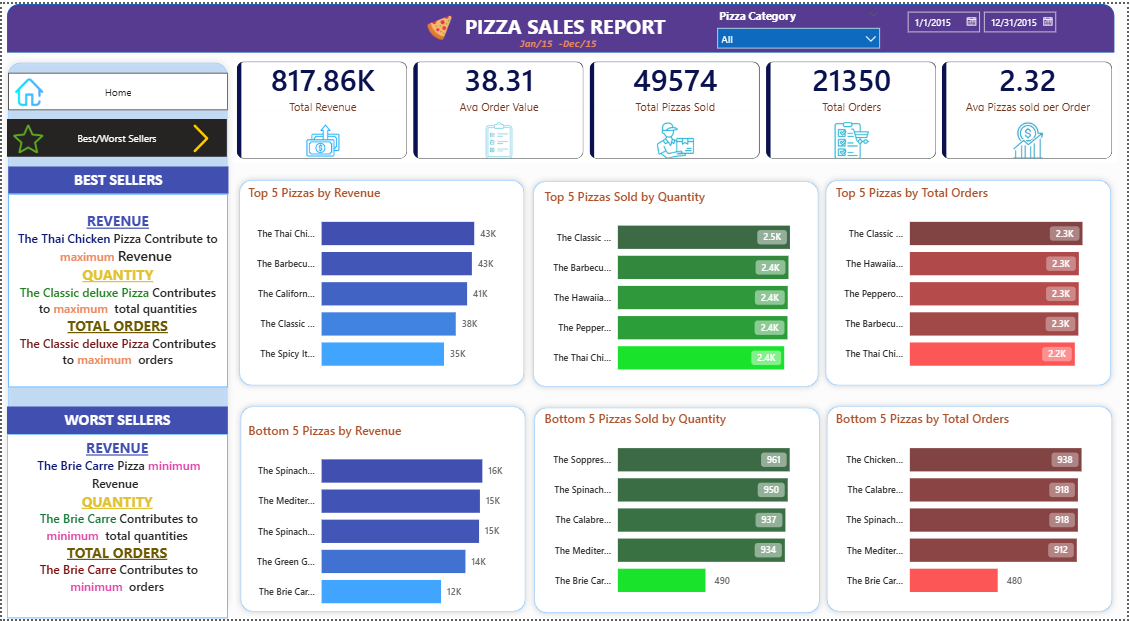

The dashboard page shown, as its layout file describes it:
{"tool":"powerbi","page":{"name":"Best/Worst Sellers","canvas":[1500,820],"ordinal":1},"visuals":[{"type":"cardVisual","fields":{"Data":["pizza_sales.Total Revenue","pizza_sales.Avg Order Value","pizza_sales.Total Pizzas Sold","pizza_sales.Total Orders","pizza_sales.Avg Pizzas sold per Order"]},"box":[309.2,71.4,1178.9,140.1],"z":0},{"type":"shape","box":[6.7,0,1476.7,65],"z":1000},{"type":"textbox","box":[602.5,6.2,295,51.2],"z":2000},{"type":"textbox","box":[685,37.5,142.5,27.5],"z":3000},{"type":"image","box":[562.5,15,40,33.8],"z":4000},{"type":"shape","box":[309.2,225.9,396,290],"z":5000},{"type":"shape","box":[0,70,308.8,750],"z":6000},{"type":"textbox","box":[8,216,293.3,36],"z":7000},{"type":"textbox","box":[7.5,252.5,292.5,257.5],"z":8000},{"type":"textbox","box":[7.4,536.8,294.1,36.8],"z":9000},{"type":"textbox","box":[7.4,573.5,294.1,245.6],"z":10000},{"type":"slicer","fields":{"Values":["pizza_sales.pizza_category"]},"box":[943.8,0,237.5,65],"z":11000},{"type":"slicer","fields":{"Values":["pizza_sales.order_date"]},"box":[1195,0,237.5,65],"z":12000},{"type":"shape","box":[700,227.6,396.7,290],"z":13000},{"type":"shape","box":[1090,226,396.7,290],"z":14000},{"type":"shape","box":[310.7,528.2,396,290],"z":15000},{"type":"shape","box":[701.5,529.9,396.7,290],"z":16000},{"type":"shape","box":[1091.5,528.3,396.7,290],"z":17000},{"type":"barChart","title":"Top 5  Pizzas by Revenue","fields":{"Category":["pizza_sales.pizza_name"],"Y":["pizza_sales.Total Revenue"]},"box":[323.5,239.7,361.8,264.7],"z":18000},{"type":"barChart","title":"Bottom 5  Pizzas by Revenue","fields":{"Category":["pizza_sales.pizza_name"],"Y":["pizza_sales.Total Revenue"]},"box":[323.5,555.9,361.8,264.7],"z":19000},{"type":"barChart","title":"Top 5  Pizzas Sold by Quantity","fields":{"Category":["pizza_sales.pizza_name"],"Y":["pizza_sales.Total Pizzas Sold"]},"box":[717.6,245.6,361.8,264.7],"z":20000},{"type":"barChart","title":"Bottom 5  Pizzas Sold by Quantity","fields":{"Category":["pizza_sales.pizza_name"],"Y":["pizza_sales.Total Pizzas Sold"]},"box":[719.1,541.2,361.8,264.7],"z":21000},{"type":"barChart","title":"Top 5  Pizzas by Total Orders","fields":{"Category":["pizza_sales.pizza_name"],"Y":["pizza_sales.Total Orders"]},"box":[1107.4,239.7,364.7,264.7],"z":22000},{"type":"barChart","title":"Bottom 5  Pizzas by Total Orders","fields":{"Category":["pizza_sales.pizza_name"],"Y":["pizza_sales.Total Orders"]},"box":[1107.4,541.2,364.7,264.7],"z":23000},{"type":"pageNavigator","box":[7,154,293,50],"z":24000},{"type":"pageNavigator","box":[8,92,293,50],"z":25000},{"type":"image","box":[222,160,87,38],"z":26000},{"type":"image","box":[16,98,39,38],"z":27000},{"type":"image","box":[15,158,40,43],"z":28000}]}

Visuals, with their boxes in screenshot pixels (x1, y1, x2, y2), scaled from the page's 1500x820 canvas onto the 1130x621 screenshot:
cardVisual - pizza_sales.Total Revenue x pizza_sales.Avg Order Value: (233, 54, 1121, 160)
shape: (5, 0, 1117, 49)
textbox: (454, 5, 676, 43)
textbox: (516, 28, 623, 49)
image: (424, 11, 454, 37)
shape: (233, 171, 531, 391)
shape: (0, 53, 233, 620)
textbox: (6, 164, 227, 191)
textbox: (6, 191, 226, 386)
textbox: (6, 407, 227, 434)
textbox: (6, 434, 227, 620)
slicer - pizza_sales.pizza_category: (711, 0, 890, 49)
slicer - pizza_sales.order_date: (900, 0, 1079, 49)
shape: (527, 172, 826, 392)
shape: (821, 171, 1120, 391)
shape: (234, 400, 532, 620)
shape: (528, 401, 827, 620)
shape: (822, 400, 1121, 620)
"Top 5  Pizzas by Revenue" barChart: (244, 182, 516, 382)
"Bottom 5  Pizzas by Revenue" barChart: (244, 421, 516, 620)
"Top 5  Pizzas Sold by Quantity" barChart: (541, 186, 813, 386)
"Bottom 5  Pizzas Sold by Quantity" barChart: (542, 410, 814, 610)
"Top 5  Pizzas by Total Orders" barChart: (834, 182, 1109, 382)
"Bottom 5  Pizzas by Total Orders" barChart: (834, 410, 1109, 610)
pageNavigator: (5, 117, 226, 154)
pageNavigator: (6, 70, 227, 108)
image: (167, 121, 233, 150)
image: (12, 74, 41, 103)
image: (11, 120, 41, 152)
